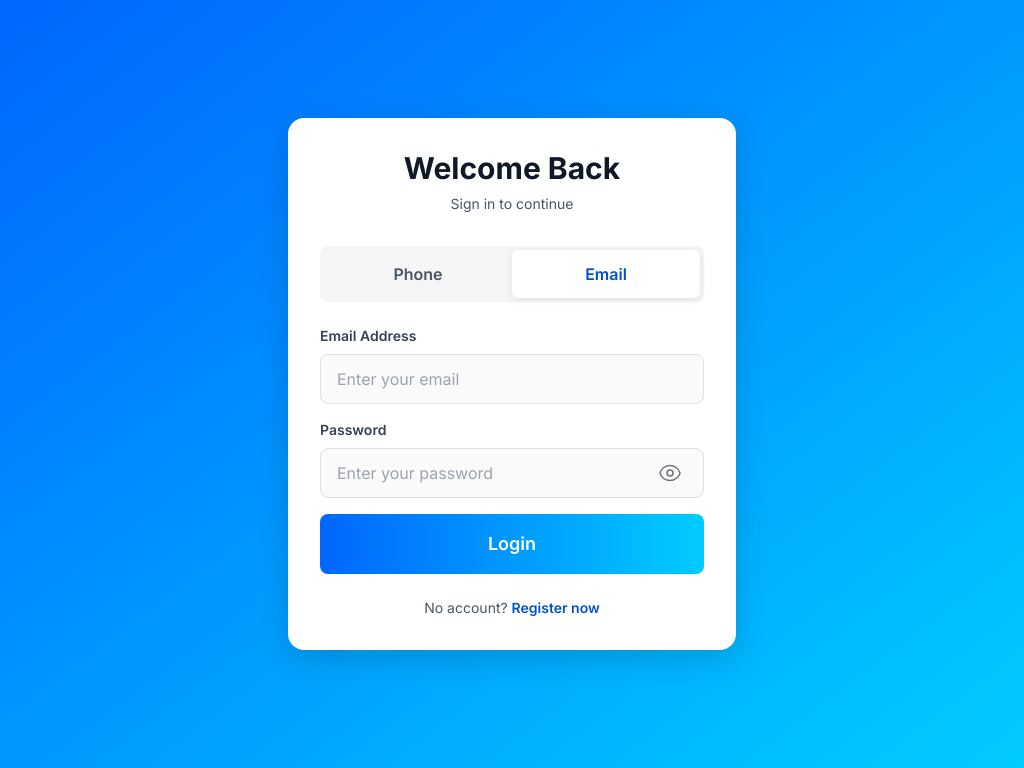
Test case: LoginPage › shows validation error for empty password
Type "test@example.com" into the field labelled "Email Address" at {"x": 512, "y": 379}, box [320,354,704,404]
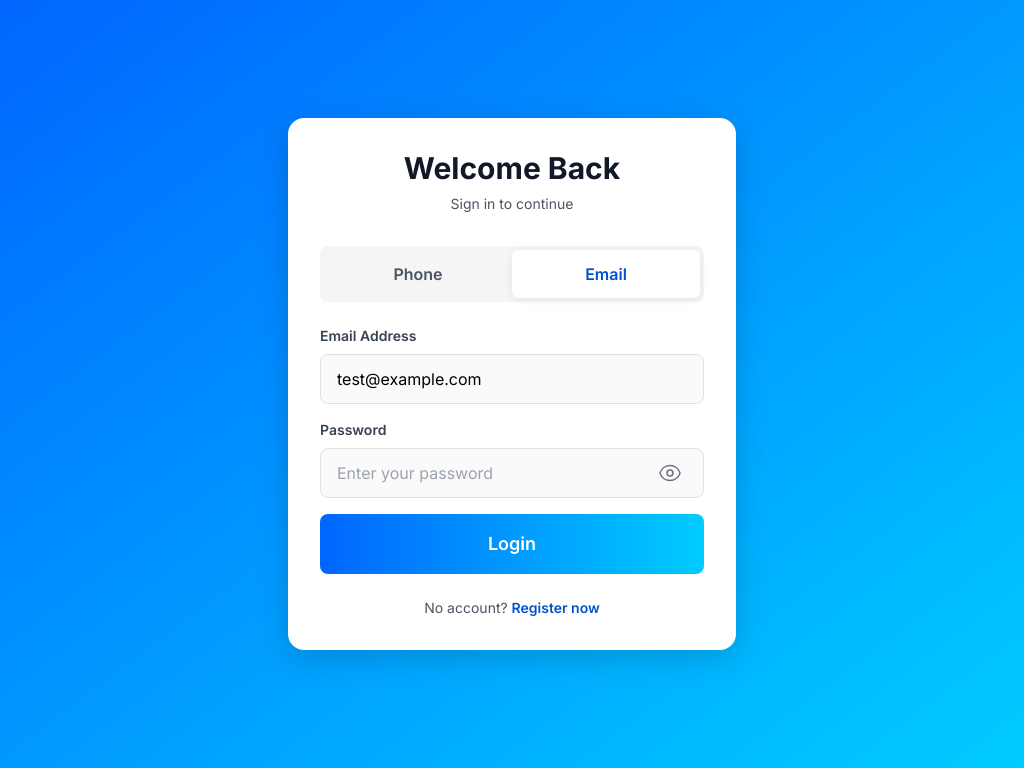
Click the button "Login" at {"x": 512, "y": 544}, box [320,514,704,574]
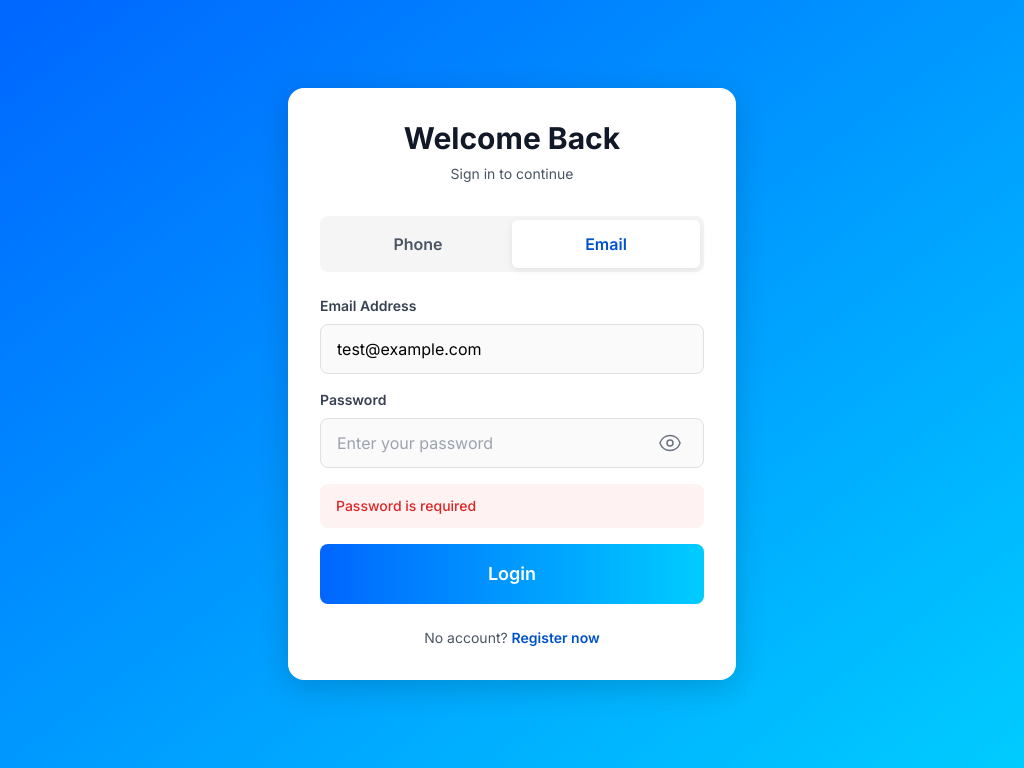
Result: the text "Password is required" is shown at [320,484,704,528]
